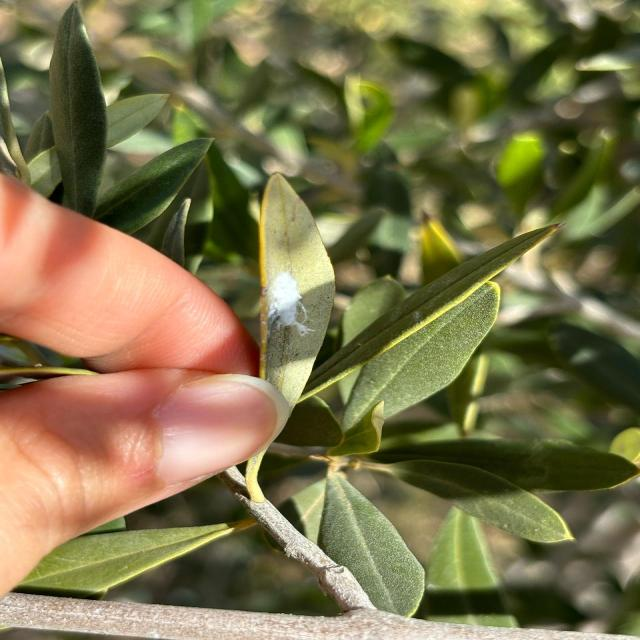Psyllid: (261, 242, 333, 352)
